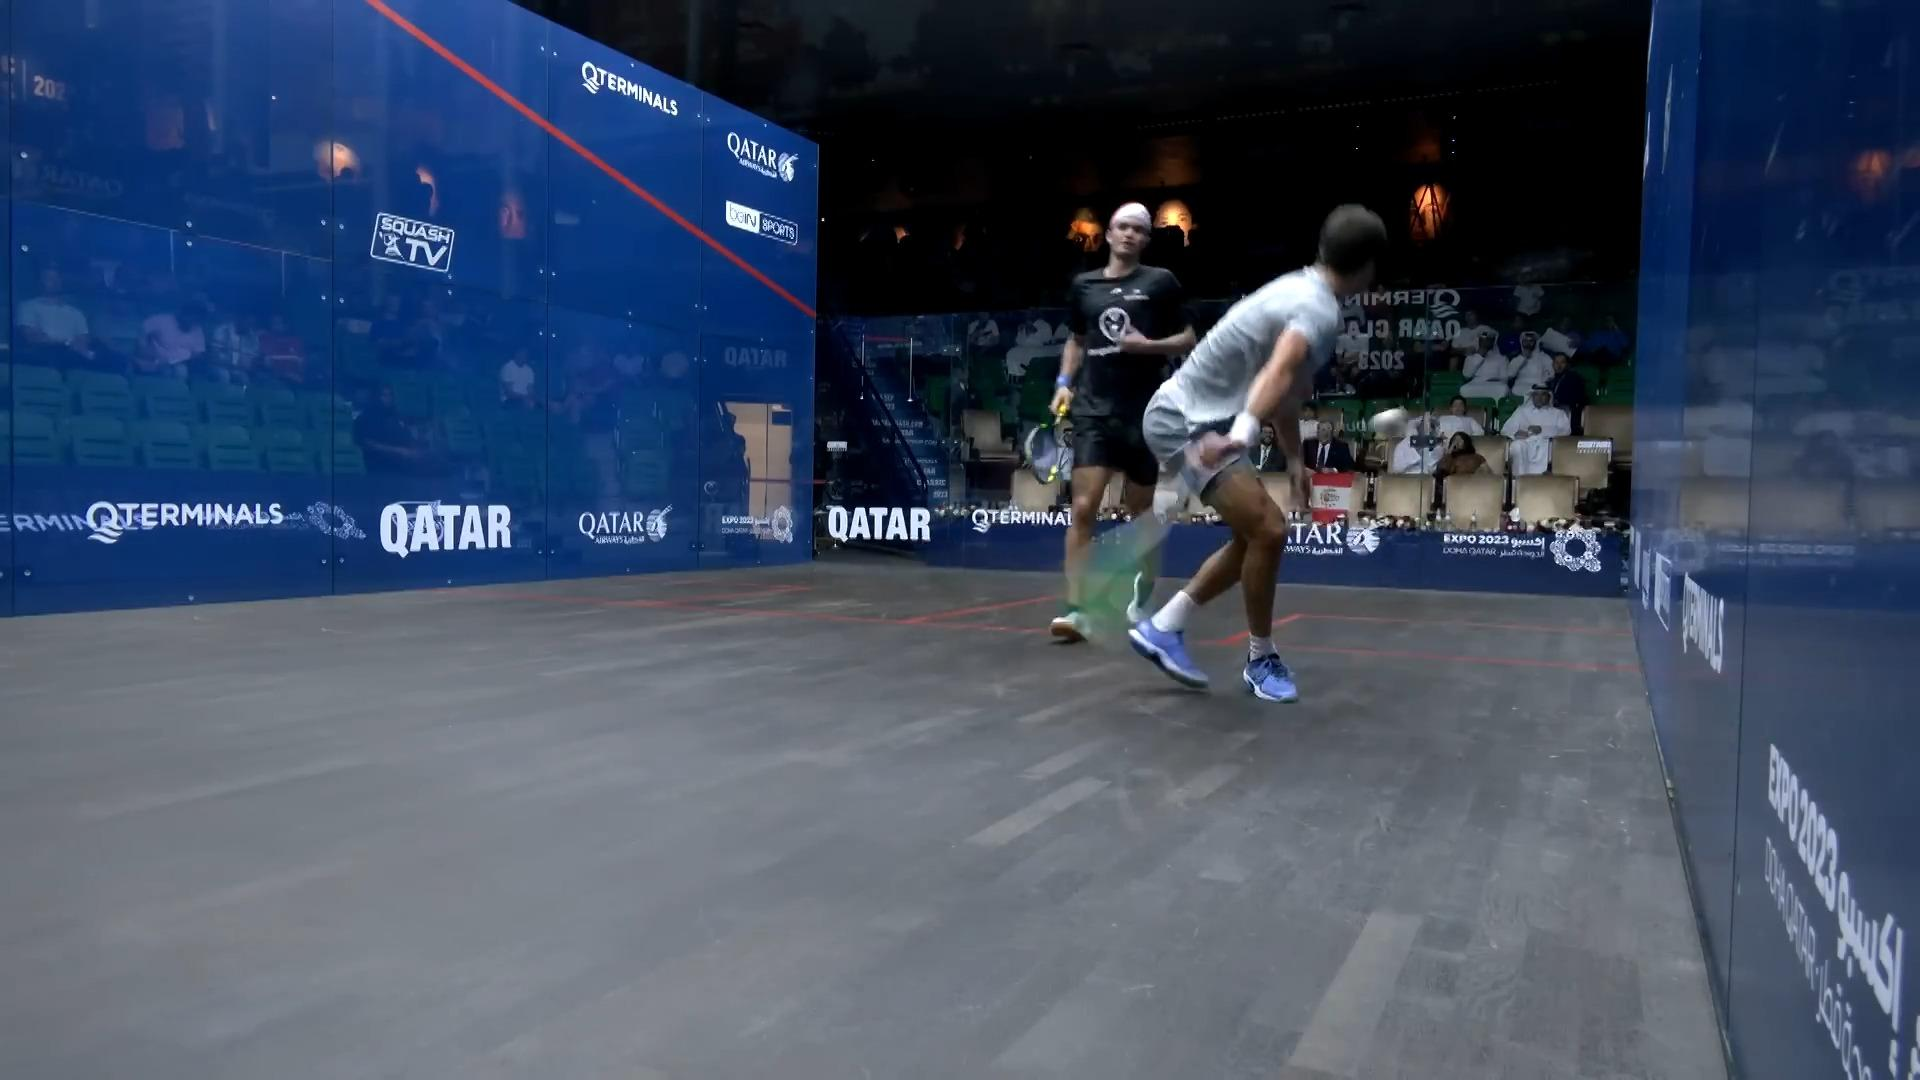Racket: (1022, 407, 1072, 485)
